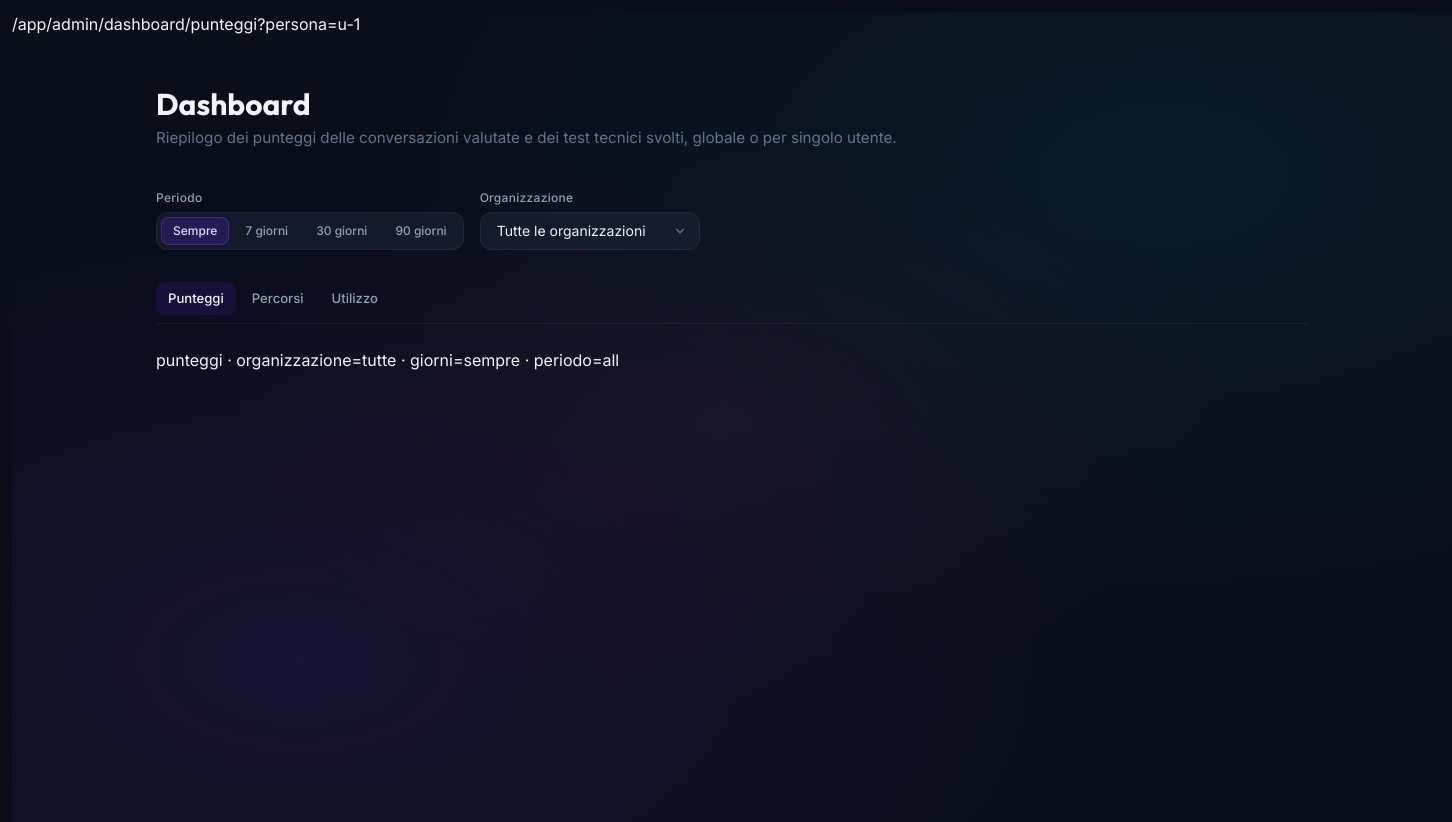
Test case: i filtri del guscio › lascia andare la persona quando cambia l’organizzazione
Click the dropdown named "Organizzazione": click(590, 231) [480, 212, 700, 250]
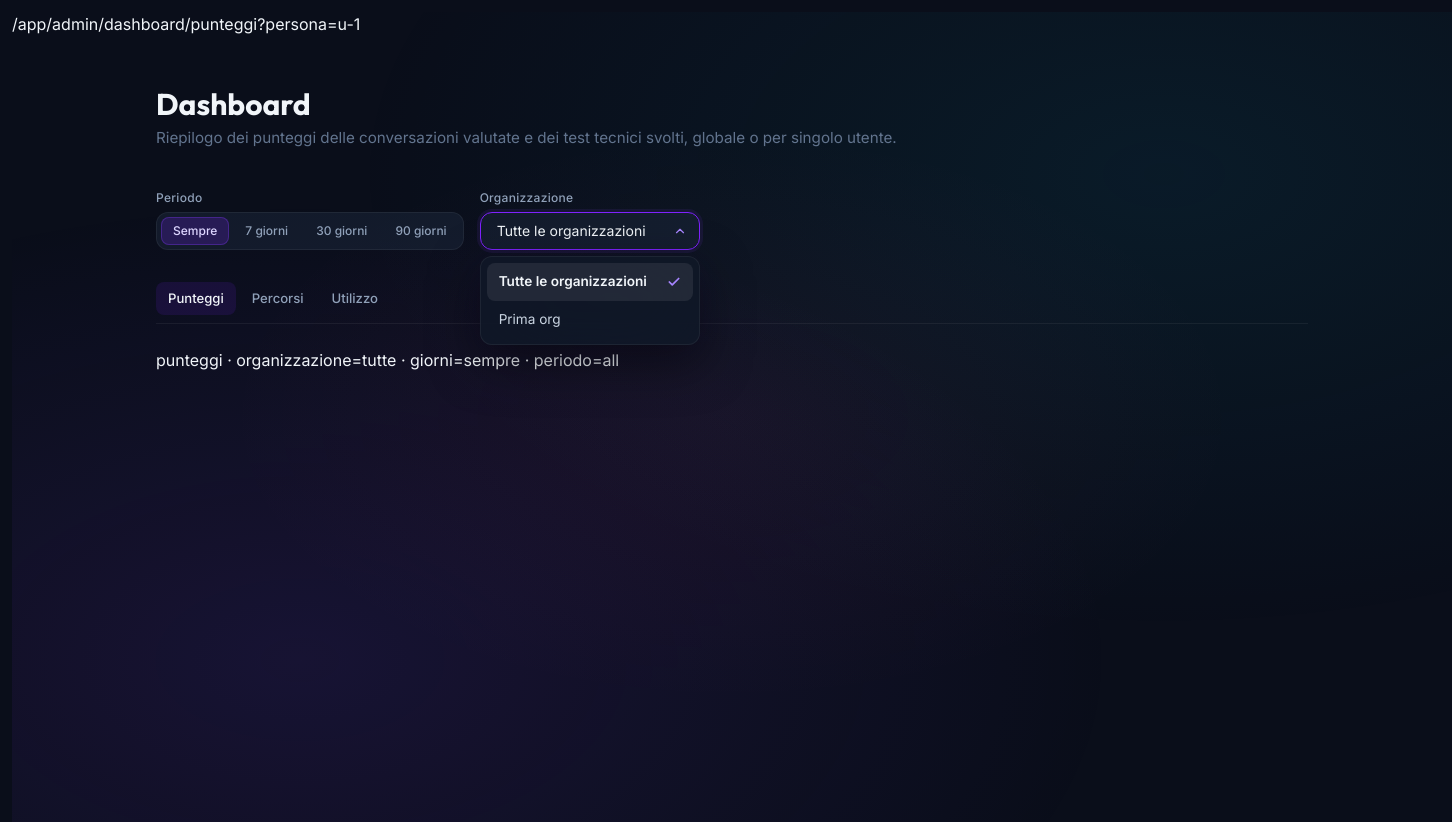
Click the option "Prima org": click(530, 319) [499, 311, 561, 327]
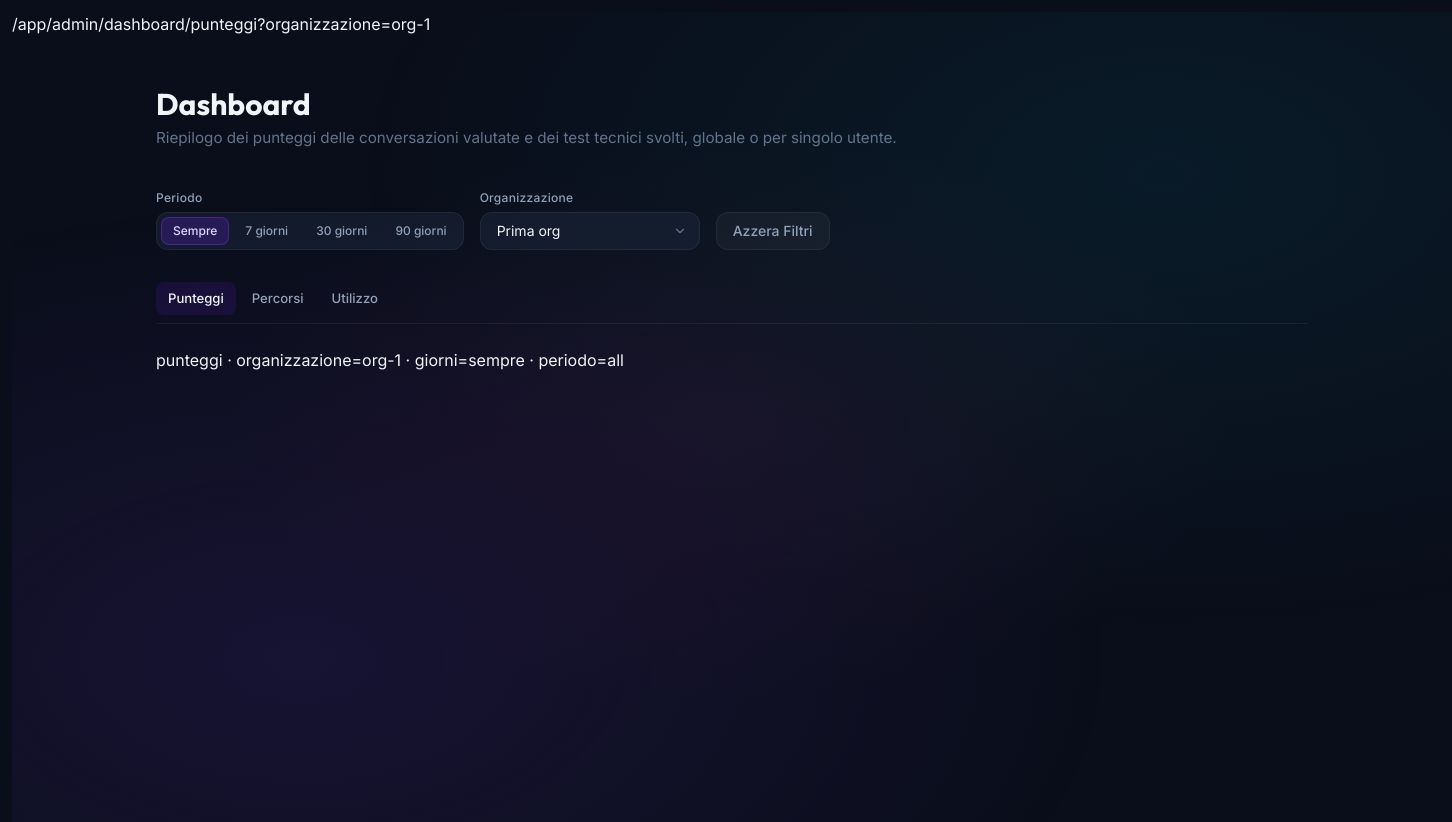
Result: the text with test id "indirizzo" shows "organizzazione=org-1" at [12, 14, 430, 34]
Result: the text with test id "indirizzo" no longer shows "persona"
